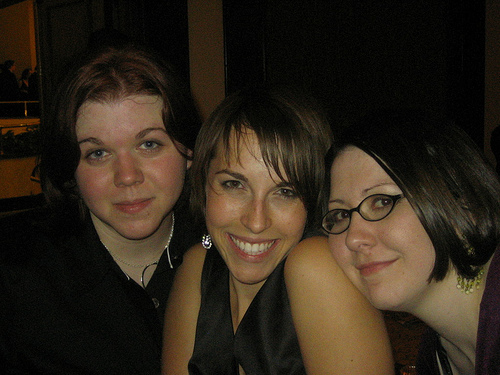without_mask: (315, 141, 484, 317), (50, 54, 197, 240), (197, 111, 325, 286)
